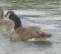goose: (3, 10, 54, 47)
